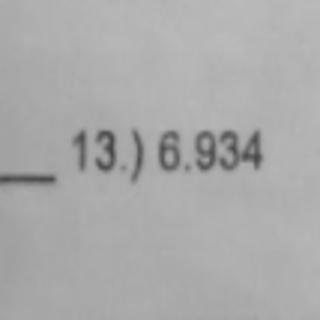.: (116, 160, 130, 176), (183, 160, 194, 173)
1: (75, 128, 92, 173)
3: (93, 130, 117, 173), (220, 130, 239, 174)
4: (243, 131, 264, 170)
6: (160, 130, 180, 170)
9: (196, 128, 216, 169)
